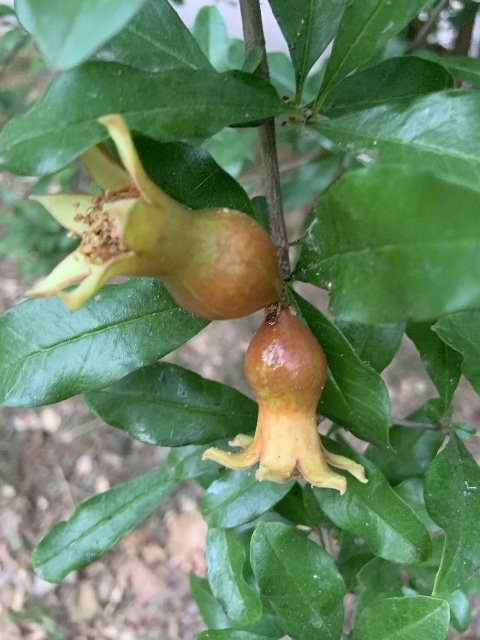early-fruit: (26, 115, 277, 320), (199, 307, 367, 492)
